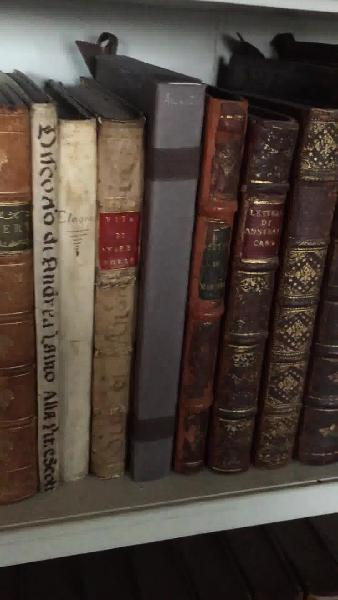Aa6-24: (30, 99, 73, 504)
Aa6-25: (53, 107, 110, 484)
Aa6-26: (99, 115, 139, 498)
Aa6-27: (143, 80, 204, 482)
Aa6-28: (173, 79, 236, 475)
Aa6-29: (210, 84, 293, 477)
Aa6-30: (252, 68, 338, 489)
